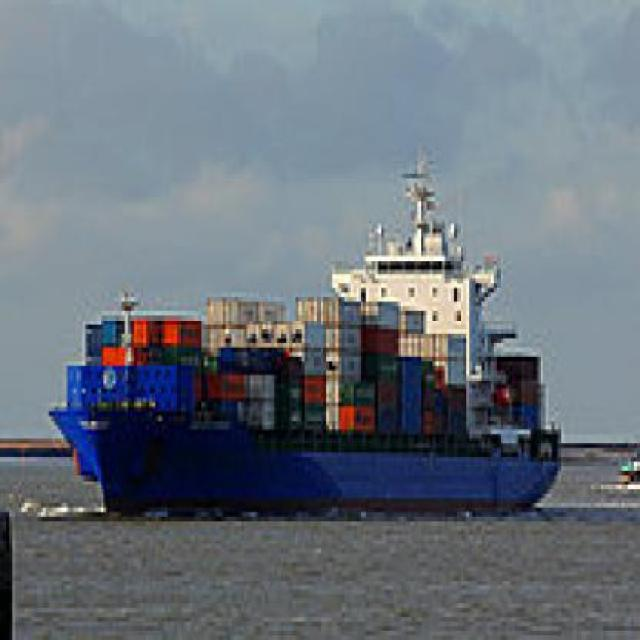container: (40, 134, 568, 531)
